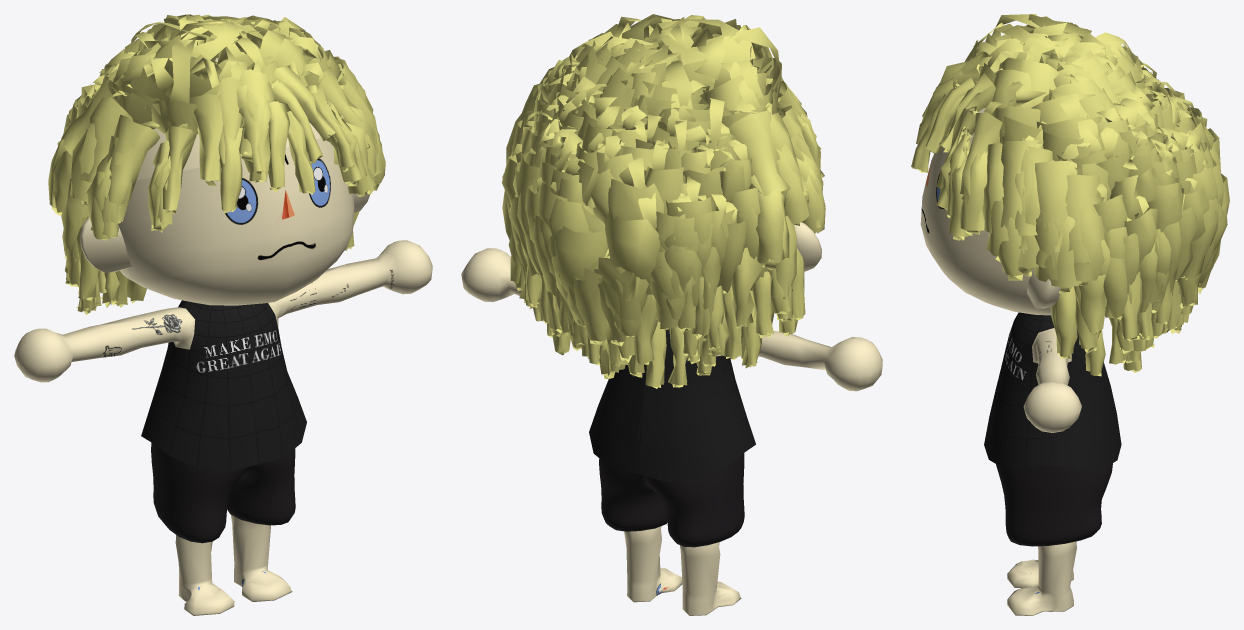
3 renders of one model, left to right at view 1: azimuth 30°, elevation 25°; view 2: azimuth 150°, elevation 25°; view 3: azimuth 270°, elevation 25°, orthographic. The views are drawn at different scales.
Parts seen in each view (by area): view 1: Hair.001_Mesh.001, torso.001_Cube.004, head.001_Cube.008, pants.001_Cube.006, legs.001_Circle.003, ear.001_Circle.004, scalp.001_Cube.007; view 2: Hair.001_Mesh.001, torso.001_Cube.004, pants.001_Cube.006, legs.001_Circle.003, ear.001_Circle.004; view 3: Hair.001_Mesh.001, torso.001_Cube.004, pants.001_Cube.006, head.001_Cube.008, legs.001_Circle.003, ear.001_Circle.004.
Part boxes in pixels (x1,y1,x2,y2): Hair.001_Mesh.001: (48, 14, 385, 314); torso.001_Cube.004: (14, 240, 432, 471); head.001_Cube.008: (118, 138, 354, 305); pants.001_Cube.006: (151, 442, 295, 543); legs.001_Circle.003: (175, 515, 292, 615); ear.001_Circle.004: (80, 193, 370, 272); scalp.001_Cube.007: (137, 58, 320, 179); Hair.001_Mesh.001: (502, 14, 825, 388); torso.001_Cube.004: (461, 248, 882, 481); pants.001_Cube.006: (599, 453, 744, 547); legs.001_Circle.003: (624, 526, 741, 615); ear.001_Circle.004: (794, 222, 821, 271); Hair.001_Mesh.001: (911, 14, 1229, 376); torso.001_Cube.004: (984, 312, 1121, 468); pants.001_Cube.006: (996, 463, 1112, 546); head.001_Cube.008: (920, 147, 1051, 315); legs.001_Circle.003: (1007, 541, 1076, 615); ear.001_Circle.004: (1027, 268, 1061, 308).
Bounding box in the file's own units: 1.51 × 2.02 × 1.05.
Materials: 7 (3 with a texture image).
